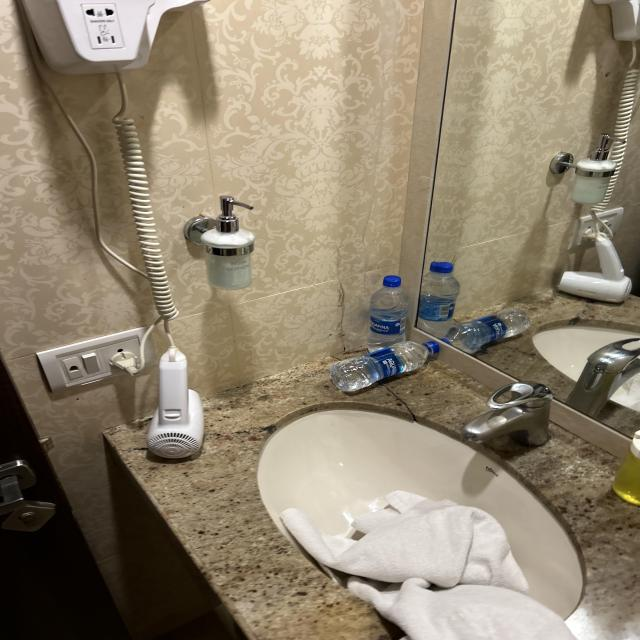mess: (106, 324, 640, 640)
